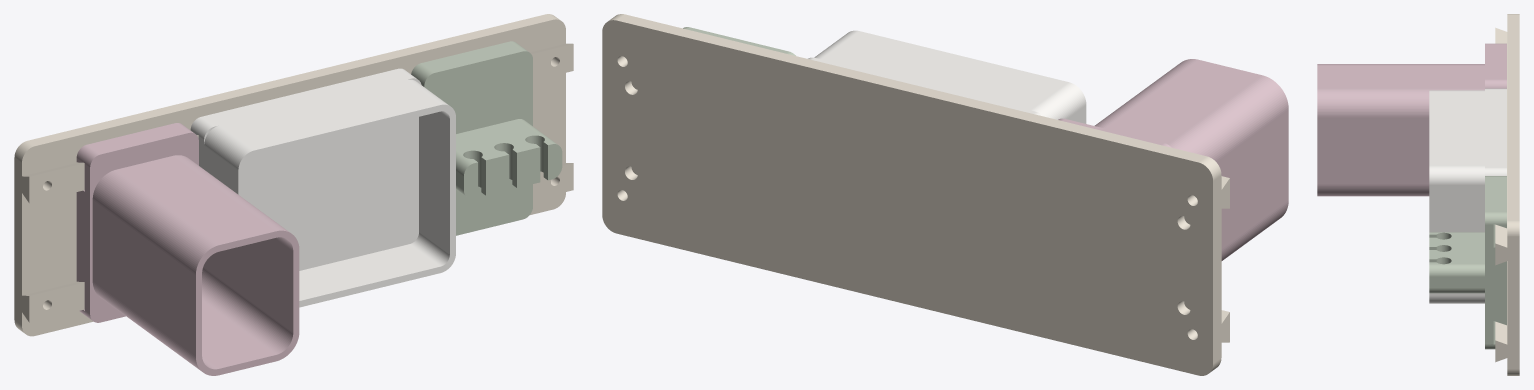
Rendered from desk-rail-compact.glb.
The picture shows the model from 3 angles, left to right: view 1: azimuth 30°, elevation 25°; view 2: azimuth 150°, elevation 25°; view 3: azimuth 270°, elevation 25°; orthographic projection. The views are drawn at different scales.
Visible parts, largest first — view 1: rail-catch-tray__3, rail-pen-cup__2, rail-210__1, rail-cable-comb__4; view 2: rail-210__1, rail-pen-cup__2, rail-catch-tray__3; view 3: rail-pen-cup__2, rail-catch-tray__3, rail-cable-comb__4, rail-210__1.
Boxes of the visible parts, x1,y1,x2,y2 form: rail-catch-tray__3: (190,68,455,307); rail-pen-cup__2: (76,123,299,375); rail-210__1: (14,14,573,336); rail-cable-comb__4: (411,41,562,235); rail-210__1: (602,14,1229,375); rail-pen-cup__2: (1058,59,1288,260); rail-catch-tray__3: (808,30,1086,123); rail-pen-cup__2: (1317,43,1506,196); rail-catch-tray__3: (1429,88,1506,303); rail-cable-comb__4: (1429,176,1506,349); rail-210__1: (1495,14,1519,375).
Size of the model in its own units: 0.21 by 0.07 by 0.0831.
